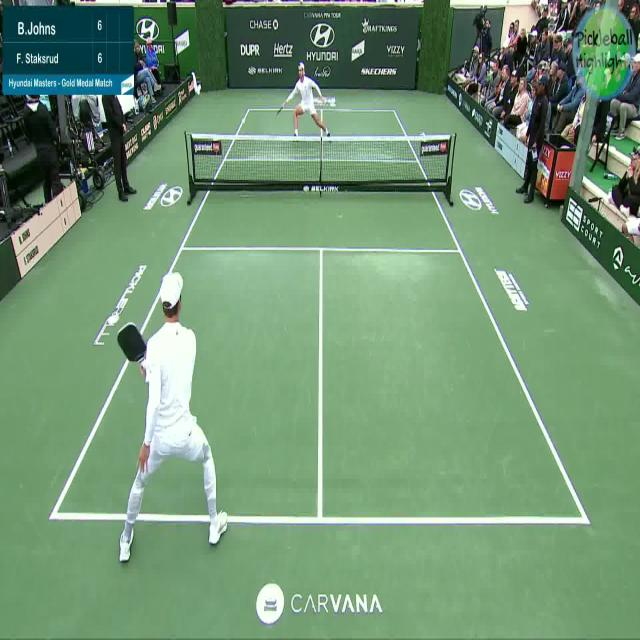Court: (52, 110, 587, 522)
ball: (238, 113, 250, 127)
